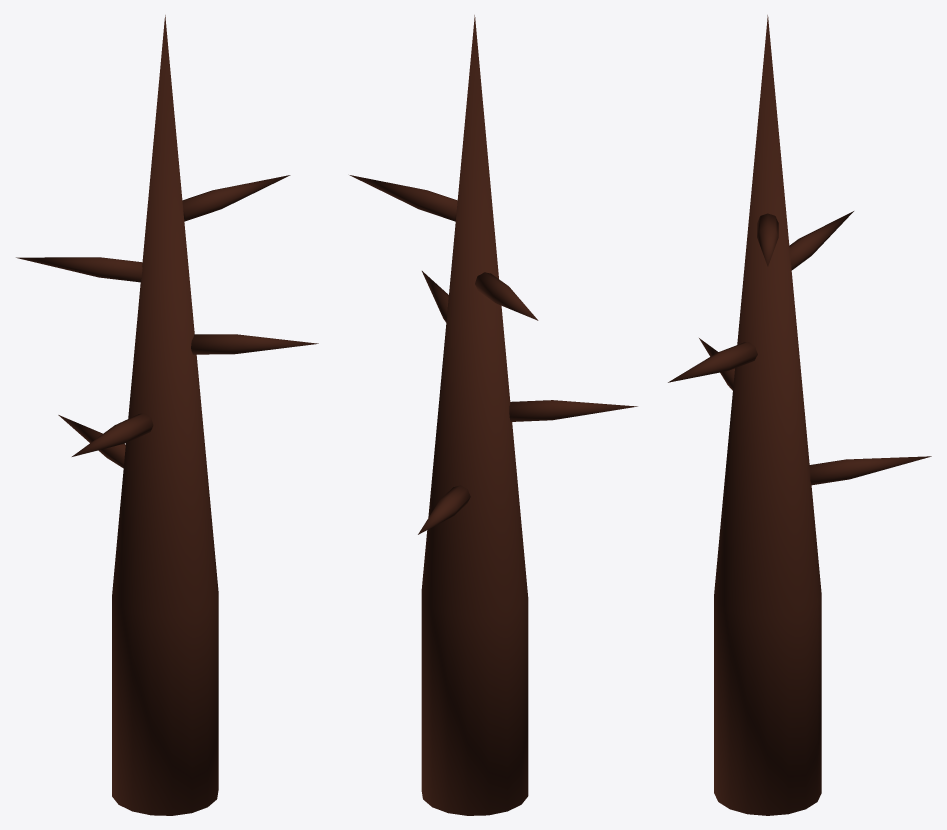
File: low_poly_tree1-Dv1EfGaq.glb
The picture shows the model from 3 angles, left to right: view 1: azimuth 30°, elevation 25°; view 2: azimuth 150°, elevation 25°; view 3: azimuth 270°, elevation 25°; orthographic projection.
Visible parts, largest first — view 1: Cylinder, Cylinder.004, Cylinder.002, Cylinder.001, Cylinder.005, Cylinder.003; view 2: Cylinder, Cylinder.005, Cylinder.001, Cylinder.004, Cylinder.003; view 3: Cylinder, Cylinder.003, Cylinder.002, Cylinder.004, Cylinder.001.
Part boxes in pixels (left/top/right/bottom): Cylinder: left=112, top=15, right=218, bottom=815; Cylinder.004: left=16, top=257, right=142, bottom=282; Cylinder.002: left=191, top=334, right=318, bottom=354; Cylinder.001: left=182, top=175, right=290, bottom=221; Cylinder.005: left=72, top=413, right=153, bottom=456; Cylinder.003: left=58, top=415, right=125, bottom=468; Cylinder: left=421, top=15, right=528, bottom=815; Cylinder.005: left=509, top=400, right=637, bottom=421; Cylinder.001: left=349, top=175, right=457, bottom=221; Cylinder.004: left=475, top=272, right=538, bottom=320; Cylinder.003: left=418, top=485, right=470, bottom=534; Cylinder: left=714, top=15, right=821, bottom=815; Cylinder.003: left=809, top=456, right=931, bottom=485; Cylinder.002: left=668, top=342, right=757, bottom=382; Cylinder.004: left=789, top=211, right=853, bottom=270; Cylinder.001: left=757, top=213, right=778, bottom=266.
Size of the model in its own units: 2.74 by 8 by 2.47.
